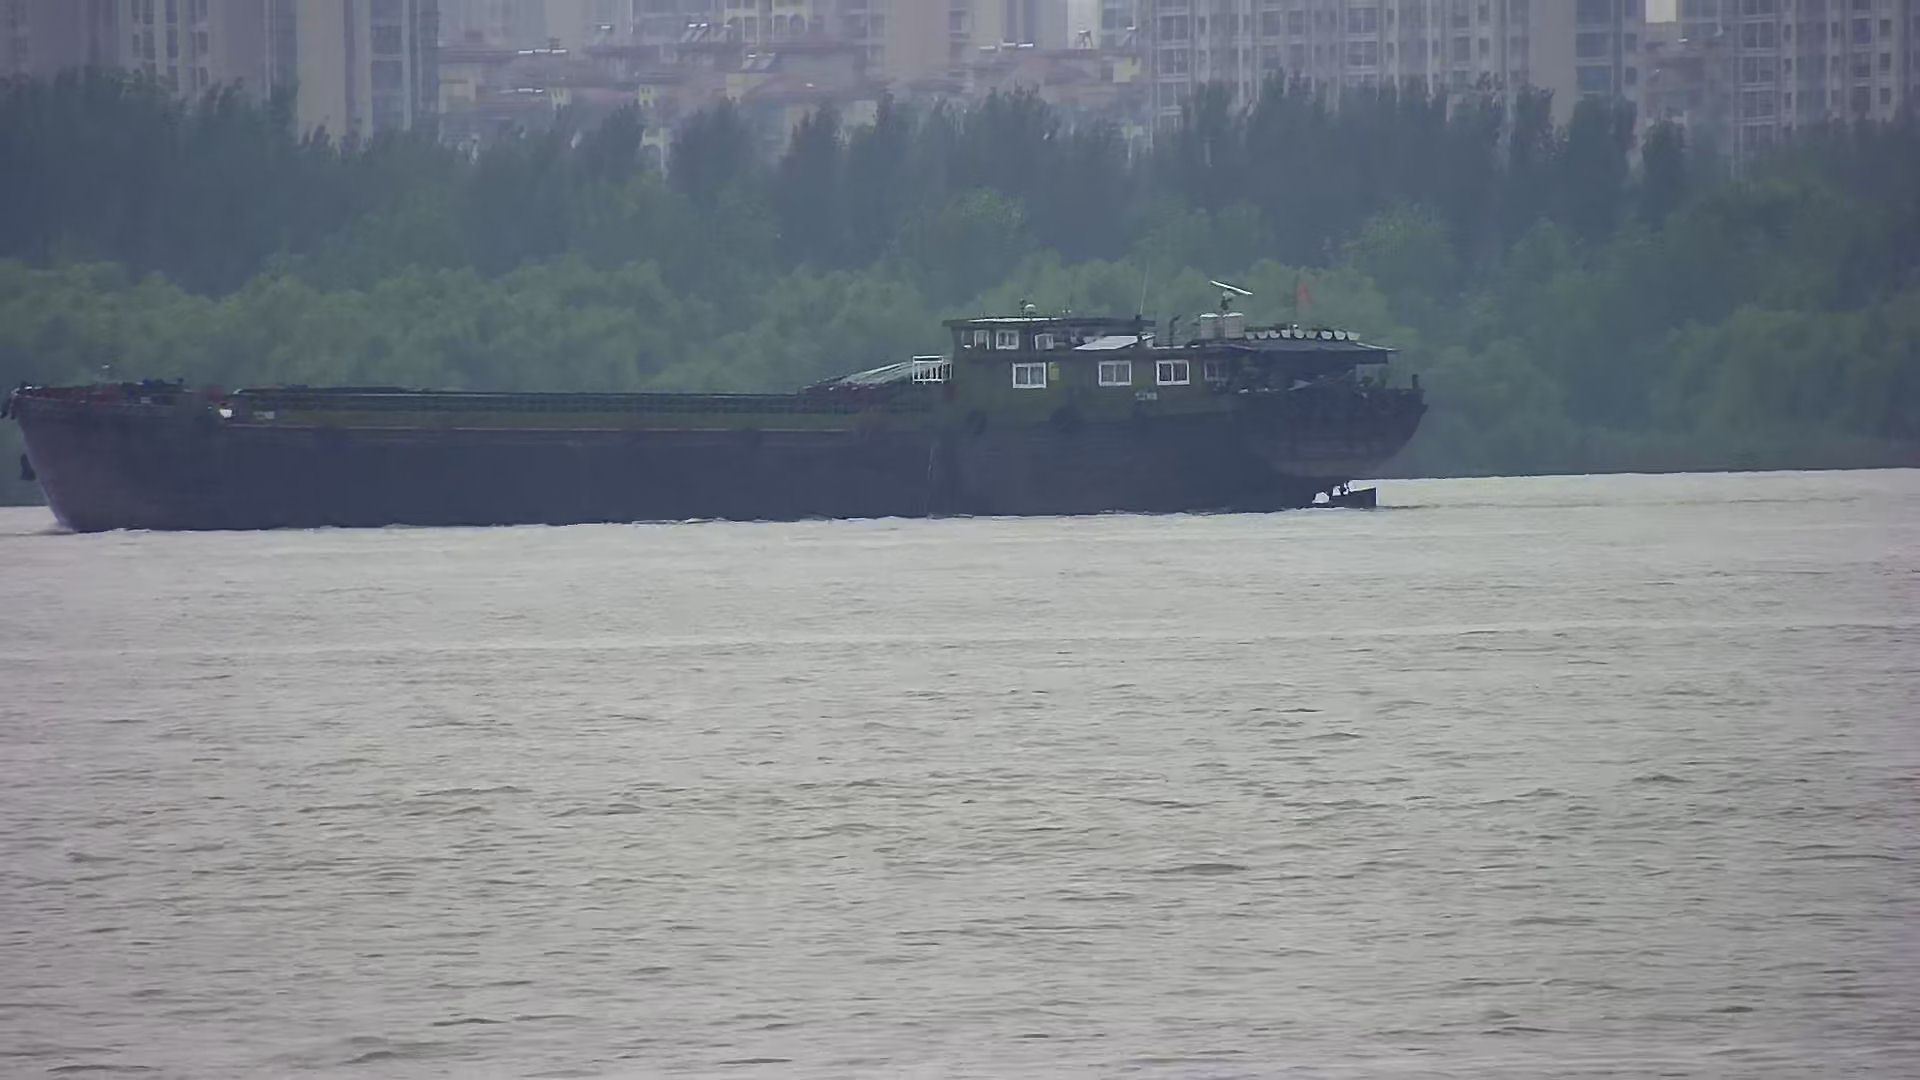ship: (3, 270, 1433, 534)
